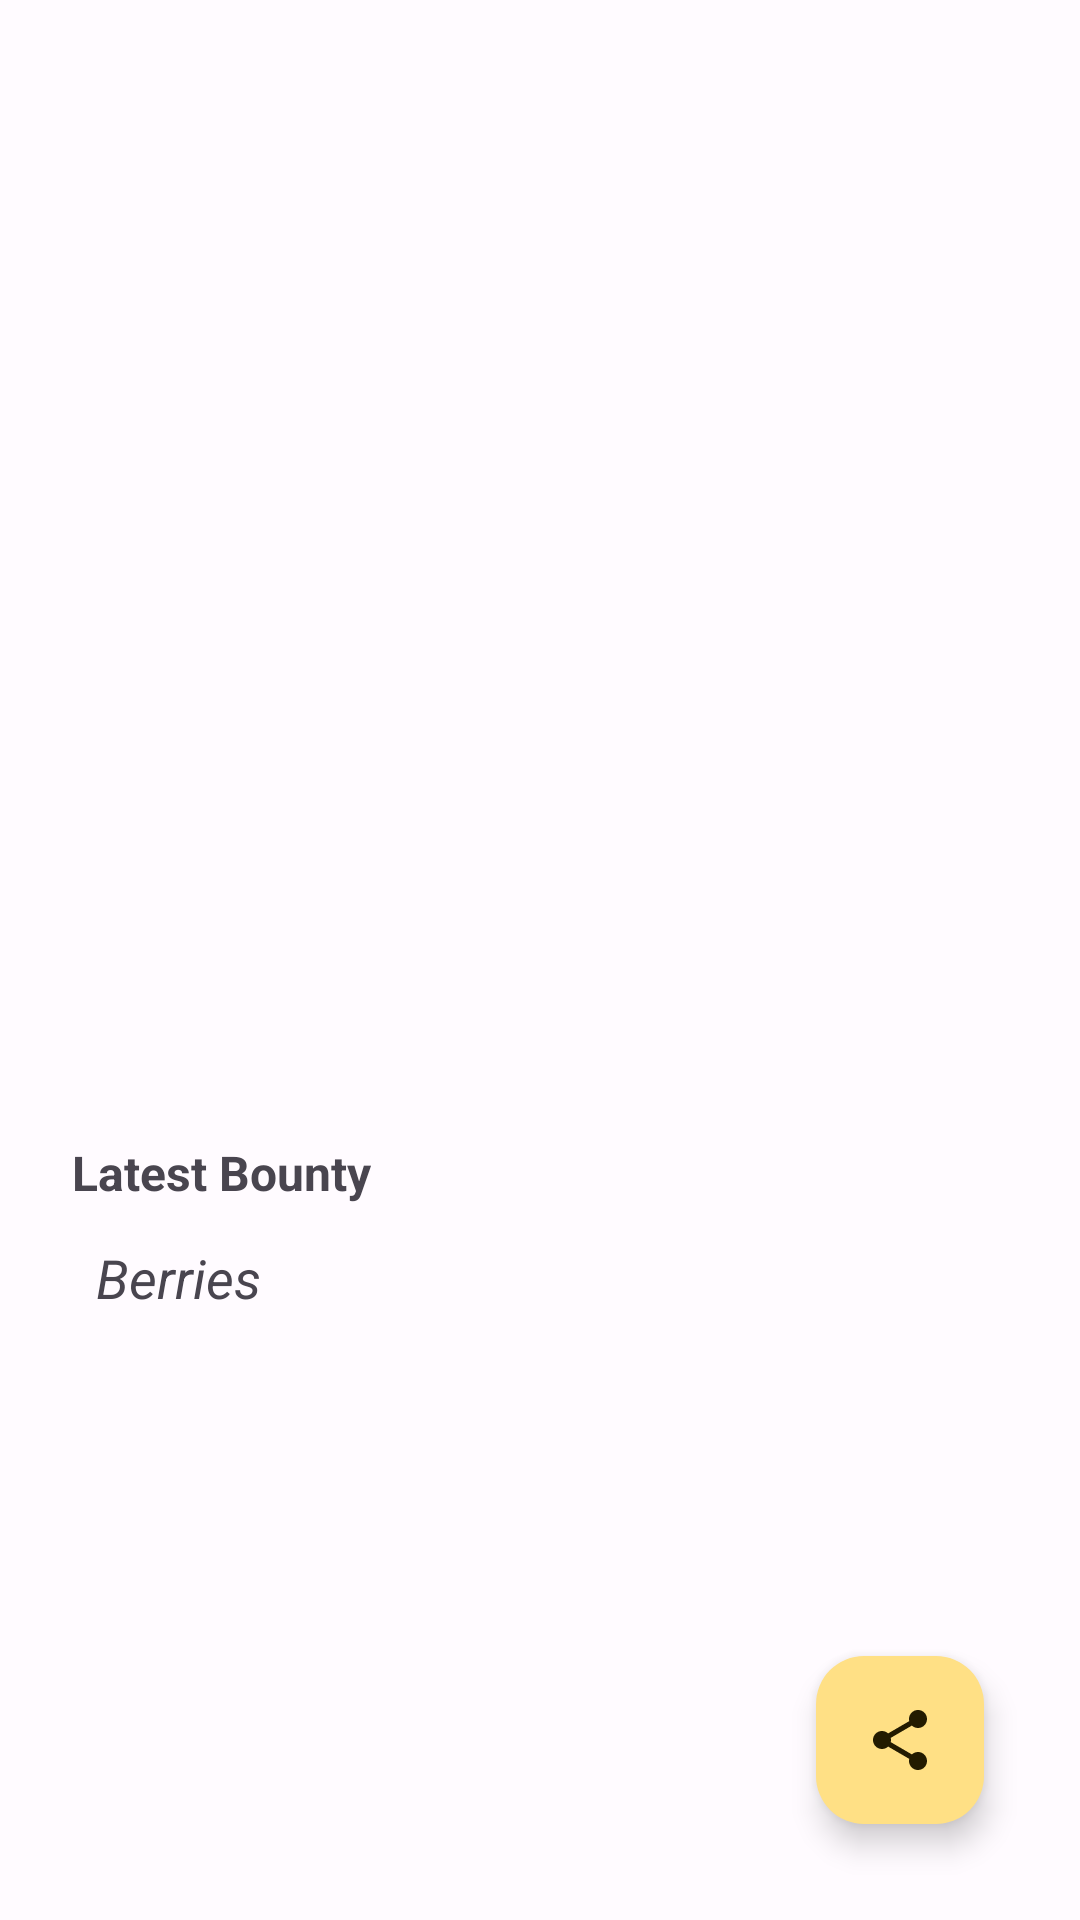

Point at icon controls on the screen. Image size 1080w x 1920h, points as point (x, y).
Share: point (900, 1740)
